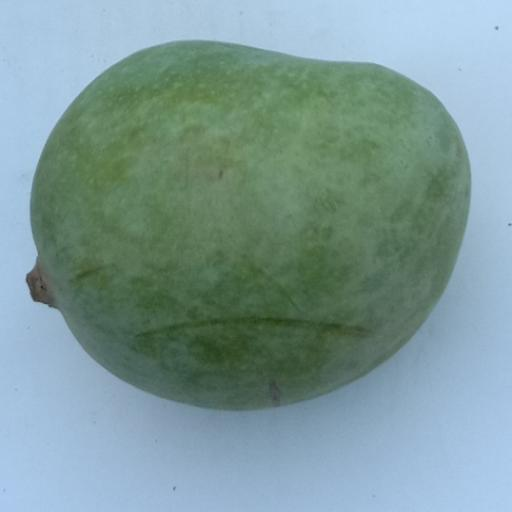mango-unripe: (13, 20, 490, 457)
